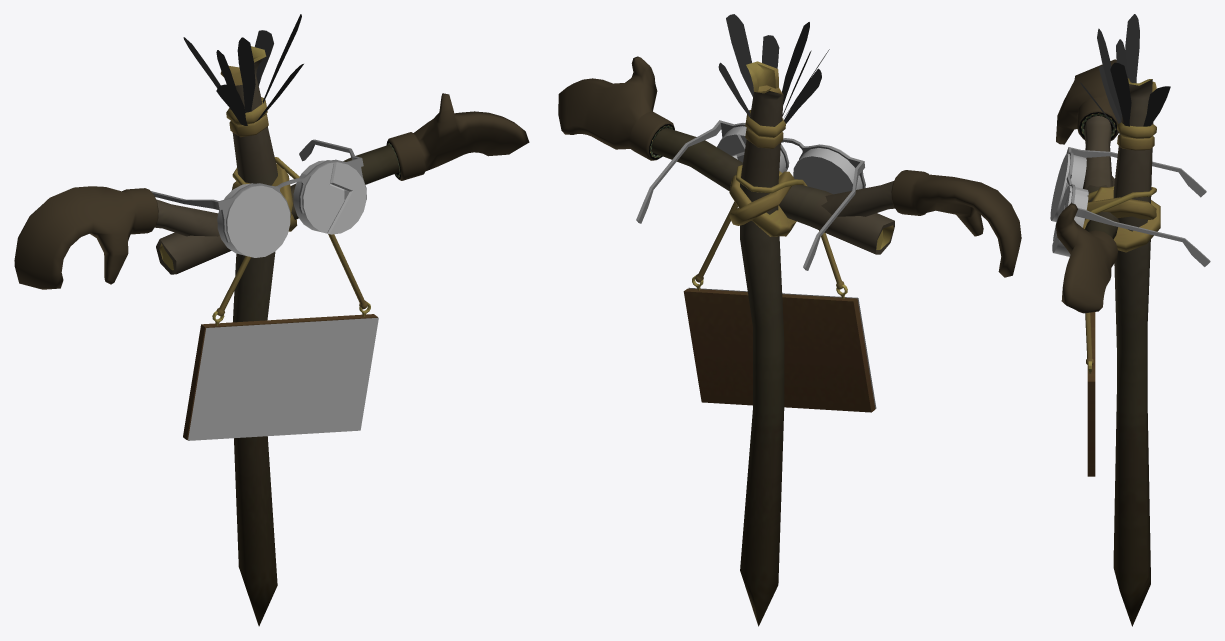
File: Scarecrow.fbx
3 renders of one model, left to right at view 1: azimuth 30°, elevation 25°; view 2: azimuth 150°, elevation 25°; view 3: azimuth 270°, elevation 25°, orthographic. The views are drawn at different scales.
Parts seen in each view (by area): view 1: kanji, Wood, Mittens, glasses_glass, feathers, pCylinder9, glasses_frame, sign; view 2: Wood, sign, Mittens, pCylinder9, feathers, glasses_glass, glasses_frame; view 3: Wood, Mittens, pCylinder9, feathers, glasses_frame, glasses_glass, sign.
Boxes of the visible parts, left/top/right/bottom form: kanji: left=188, top=317, right=378, bottom=440; Wood: left=155, top=46, right=399, bottom=626; Mittens: left=14, top=93, right=529, bottom=289; glasses_glass: left=217, top=160, right=366, bottom=257; feathers: left=183, top=14, right=303, bottom=125; pCylinder9: left=216, top=97, right=367, bottom=316; glasses_frame: left=151, top=139, right=366, bottom=242; sign: left=183, top=314, right=377, bottom=440; Wood: left=652, top=61, right=894, bottom=626; sign: left=683, top=288, right=875, bottom=412; Mittens: left=558, top=56, right=1021, bottom=277; pCylinder9: left=695, top=110, right=844, bottom=289; feathers: left=718, top=14, right=829, bottom=123; glasses_glass: left=717, top=126, right=862, bottom=194; glasses_frame: left=636, top=120, right=865, bottom=270; Wood: left=1083, top=78, right=1156, bottom=626; Mittens: left=1055, top=59, right=1118, bottom=313; pCylinder9: left=1083, top=122, right=1160, bottom=364; feathers: left=1080, top=14, right=1170, bottom=134; glasses_frame: left=1061, top=147, right=1210, bottom=266; glasses_glass: left=1050, top=153, right=1088, bottom=256; sign: left=1087, top=312, right=1095, bottom=476.
Bounding box in the file's own units: 140 × 166 × 41.44.
Materials: 6 (4 with a texture image).
